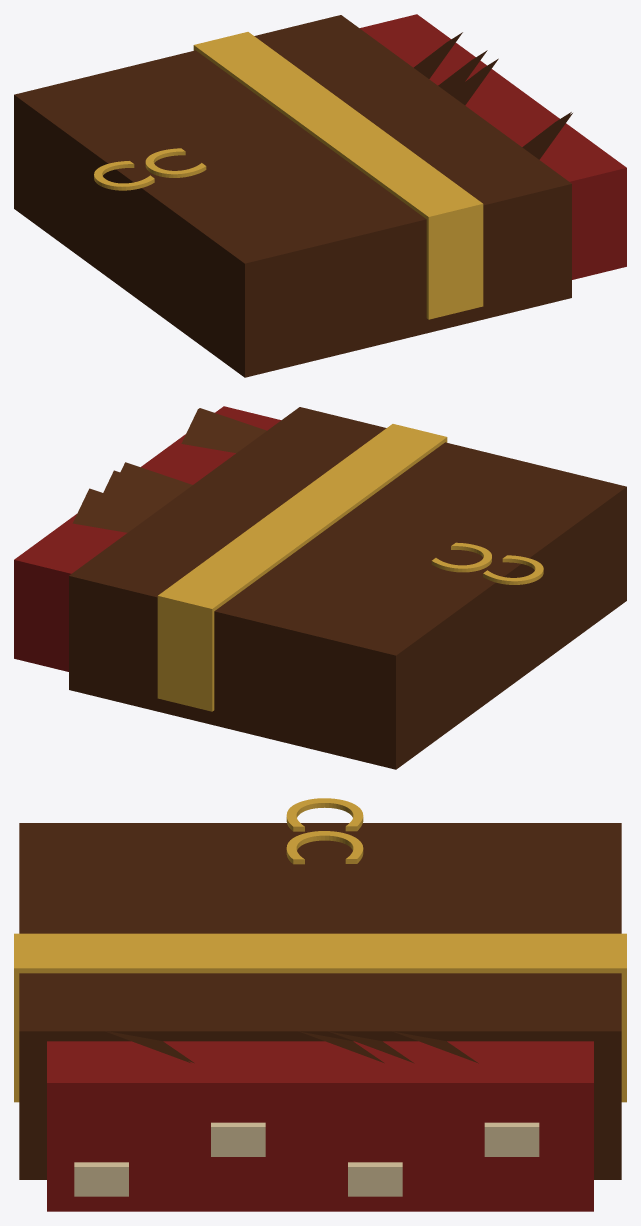
Rendered from cc_ware.glb.
3 views of the same model, one above another, from view 1: azimuth 30°, elevation 25°; view 2: azimuth 150°, elevation 25°; view 3: azimuth 270°, elevation 25° (orthographic). The views are drawn at different scales.
Parts seen in each view (by area): view 1: teil0, teil1, teil2; view 2: teil0, teil1, teil2; view 3: teil0, teil2, teil1, teil3.
Part boxes in pixels (<box>): teil0: <box>14,15,572,377</box>; teil1: <box>94,32,483,319</box>; teil2: <box>359,14,626,279</box>; teil0: <box>69,407,626,769</box>; teil1: <box>157,424,543,711</box>; teil2: <box>14,406,281,671</box>; teil0: <box>19,823,621,1179</box>; teil2: <box>47,1041,593,1211</box>; teil1: <box>14,798,626,1102</box>; teil3: <box>74,1122,539,1196</box>.
Size of the model in its own units: 0.1182 by 0.036 by 0.112.
